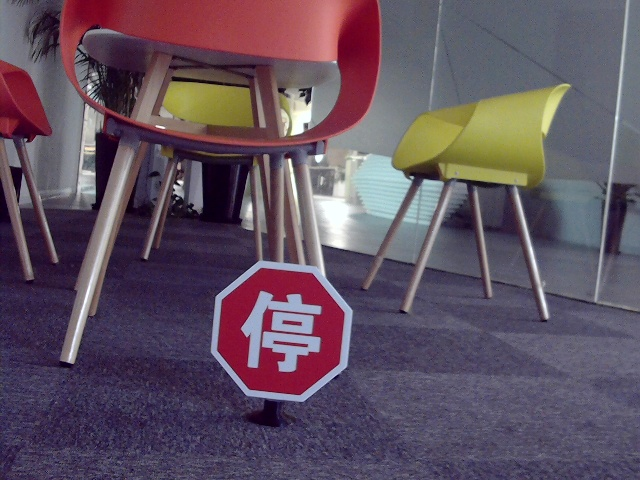stop: (238, 288, 324, 372)
